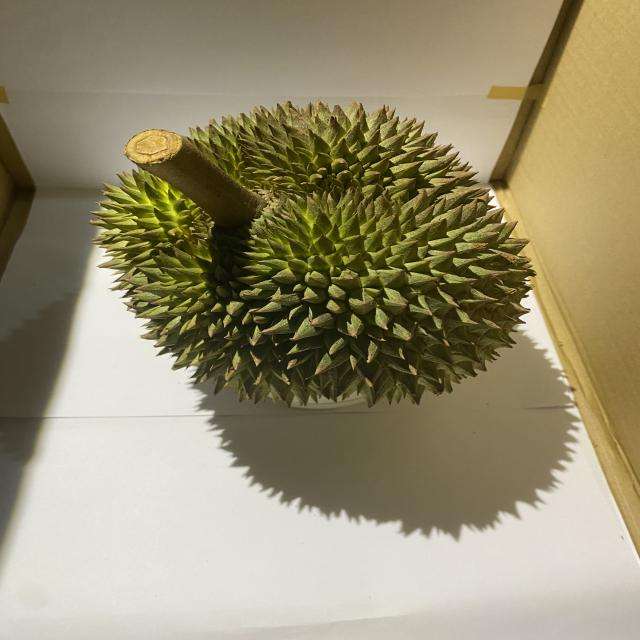immature: (89, 97, 540, 410)
